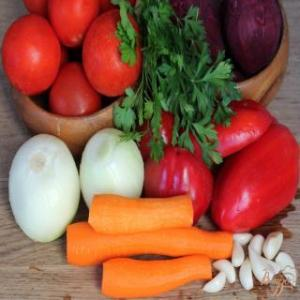beet: (172, 0, 282, 76)
bell_pepper: (215, 124, 299, 232), (139, 131, 211, 221)
carrot: (66, 217, 235, 269), (93, 250, 211, 300), (86, 186, 196, 234)
garlic: (249, 246, 275, 284), (274, 248, 298, 288), (260, 232, 286, 262), (201, 268, 227, 296), (215, 252, 237, 284), (240, 253, 256, 291)
onion: (6, 134, 82, 246), (82, 120, 142, 212)
tomato: (82, 9, 146, 99), (2, 13, 60, 95), (44, 56, 98, 130), (39, 0, 103, 46)
